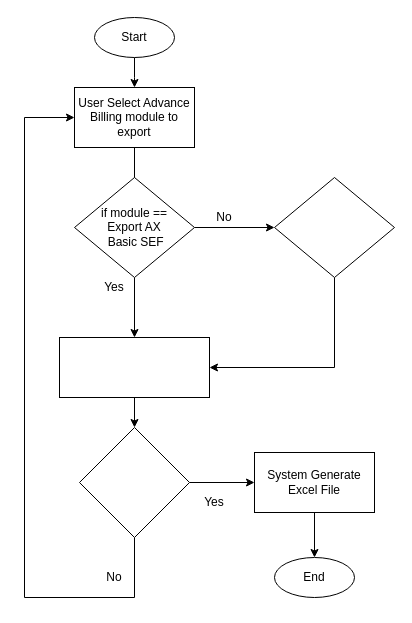
This 412x623 diagram has some shape labels left out. The centre of each missing label's shape, as x and y in pixels:
"if module == Export AX other fees" goes at pixel 334 227.
"Is input Data Valid?" goes at pixel 134 482.
"User Input Data and Click Export button" goes at pixel 134 367.
